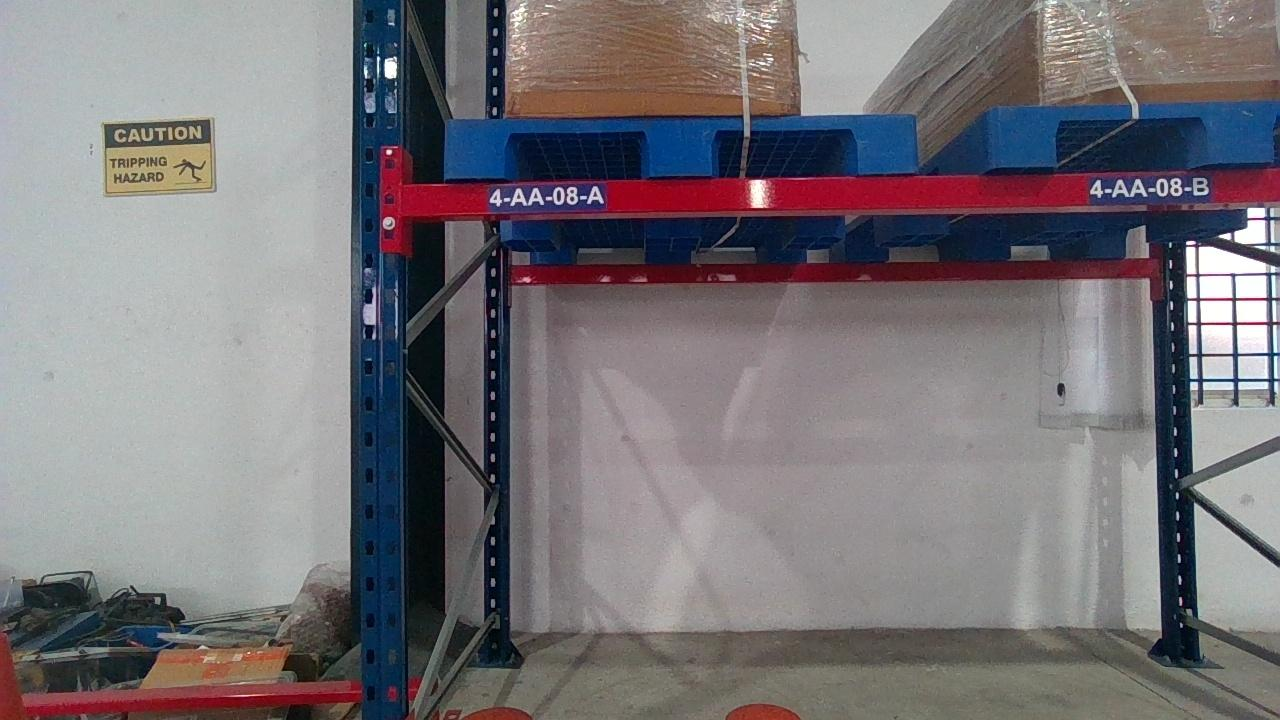h_rack: (400, 168, 1279, 211)
small_pallet: (440, 113, 917, 174), (991, 98, 1279, 164)
